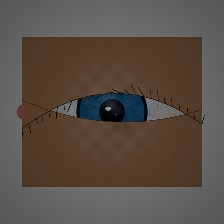pinguecula_lesion: (20, 93, 72, 134)
